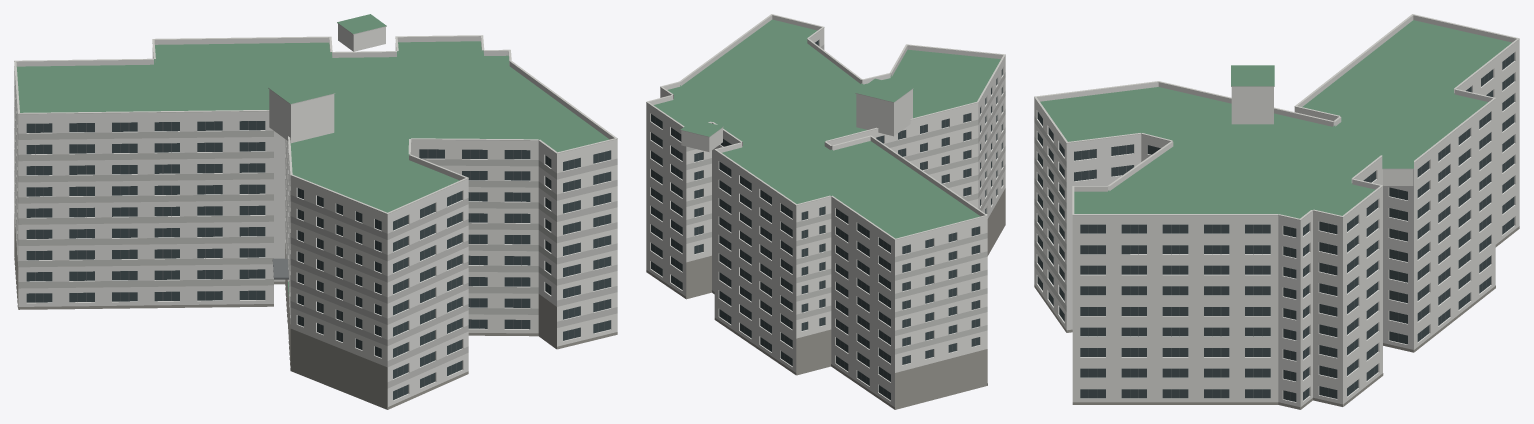
The picture shows the model from 3 angles, left to right: view 1: azimuth 30°, elevation 25°; view 2: azimuth 150°, elevation 25°; view 3: azimuth 270°, elevation 25°; orthographic projection. The views are drawn at different scales.
Visible parts, largest first — view 1: naturalSciences__wall, naturalSciences__roof, naturalSciences__wall2, naturalSciences__glass, naturalSciences__base, naturalSciences__parapet, naturalSciences__trim, naturalSciences__frame; view 2: naturalSciences__wall, naturalSciences__roof, naturalSciences__glass, naturalSciences__wall2, naturalSciences__base, naturalSciences__parapet, naturalSciences__trim, naturalSciences__frame; view 3: naturalSciences__wall, naturalSciences__roof, naturalSciences__glass, naturalSciences__parapet, naturalSciences__trim, naturalSciences__frame, naturalSciences__wall2, naturalSciences__base.
Part boxes in pixels (bbox=[...]): naturalSciences__wall: bbox=[14, 24, 617, 409]; naturalSciences__roof: bbox=[17, 14, 609, 296]; naturalSciences__wall2: bbox=[14, 81, 617, 388]; naturalSciences__glass: bbox=[26, 121, 610, 400]; naturalSciences__base: bbox=[14, 214, 617, 409]; naturalSciences__parapet: bbox=[16, 36, 617, 218]; naturalSciences__trim: bbox=[14, 22, 617, 214]; naturalSciences__frame: bbox=[35, 121, 604, 397]; naturalSciences__wall: bbox=[646, 32, 1005, 407]; naturalSciences__roof: bbox=[653, 19, 1000, 238]; naturalSciences__glass: bbox=[651, 40, 1002, 400]; naturalSciences__wall2: bbox=[686, 44, 1005, 354]; naturalSciences__base: bbox=[646, 188, 1005, 409]; naturalSciences__parapet: bbox=[646, 15, 1005, 243]; naturalSciences__trim: bbox=[646, 14, 1005, 239]; naturalSciences__frame: bbox=[655, 70, 1001, 397]; naturalSciences__wall: bbox=[1034, 43, 1519, 409]; naturalSciences__roof: bbox=[1040, 20, 1511, 218]; naturalSciences__glass: bbox=[1037, 53, 1514, 401]; naturalSciences__parapet: bbox=[1034, 15, 1519, 224]; naturalSciences__trim: bbox=[1034, 14, 1519, 220]; naturalSciences__frame: bbox=[1039, 56, 1510, 400]; naturalSciences__wall2: bbox=[1034, 116, 1066, 311]; naturalSciences__base: bbox=[1034, 226, 1519, 409].
Size of the model in its own units: 80.49 by 40.75 by 80.25.
